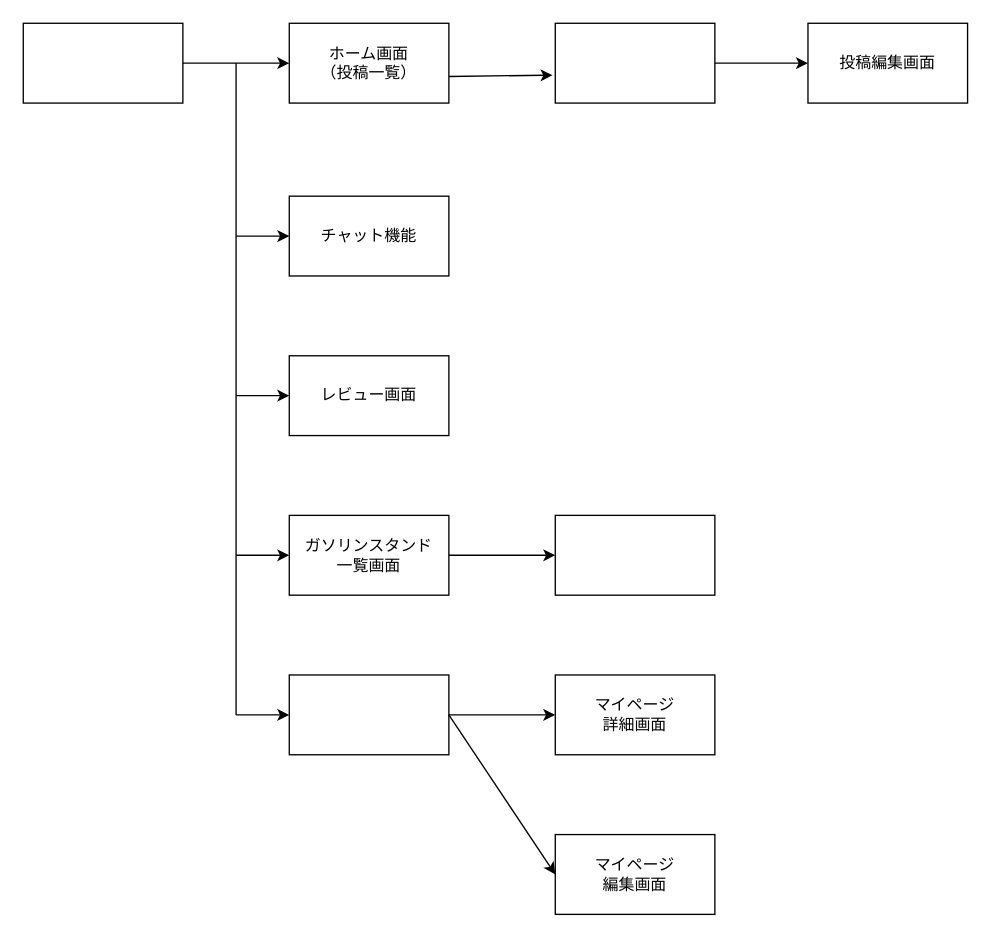
This 991x938 diagram has some shape labels left out. The shapes that lost their labels are listed below. From the top down, each one's centre as x and y in pixels, then its label:
At [102,62]: "ログインページ".
At [634,62]: "投稿詳細画面".
At [634,554]: "ガソリンスタンド 詳細画面".
At [368,714]: "マイページ".
